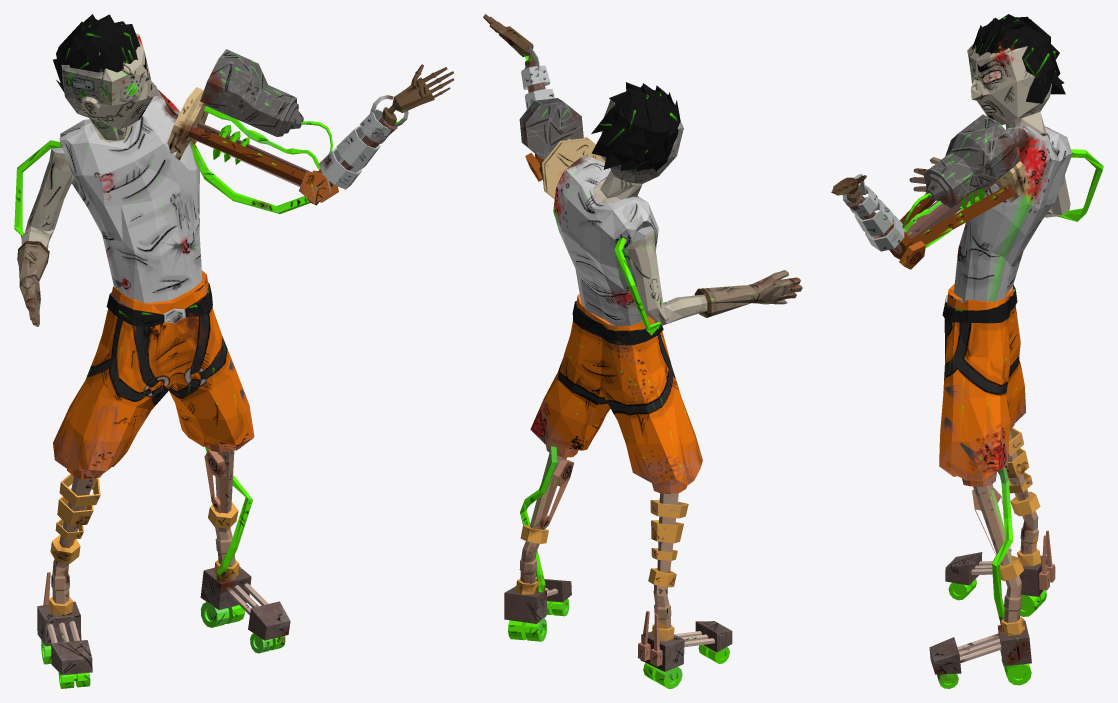
Rendered from CyborgFINALAnimation_000041.obj.
3 views of the same model, side by side, from view 1: azimuth 30°, elevation 25°; view 2: azimuth 150°, elevation 25°; view 3: azimuth 270°, elevation 25° (orthographic). The views are drawn at different scales.
Parts seen in each view (by area): view 1: CyborgMesh_Cube.002; view 2: CyborgMesh_Cube.002; view 3: CyborgMesh_Cube.002.
Boxes of the visible parts, x1,y1,x2,y2 form: CyborgMesh_Cube.002: [14, 14, 454, 688]; CyborgMesh_Cube.002: [483, 14, 802, 688]; CyborgMesh_Cube.002: [831, 14, 1103, 688].
Size of the model in its own units: 6.02 by 9.56 by 3.87.
